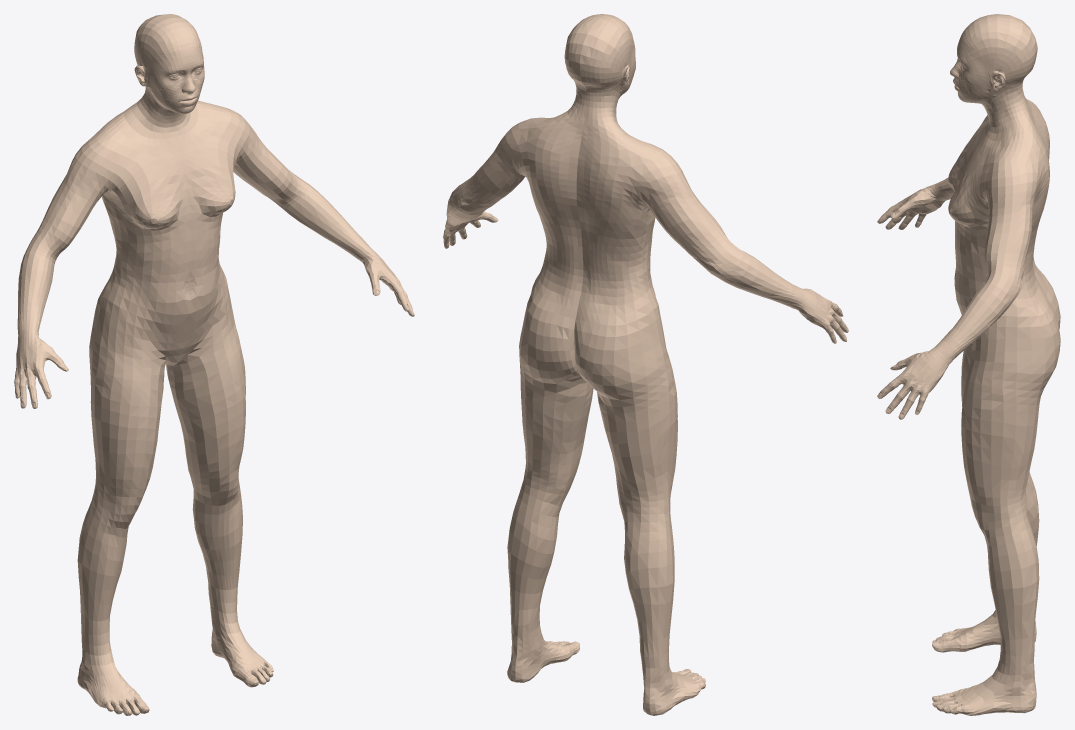
The model's file is female-adult-heavy-strong.glb.
3 renders of one model, left to right at view 1: azimuth 30°, elevation 25°; view 2: azimuth 150°, elevation 25°; view 3: azimuth 270°, elevation 25°, orthographic.
Visible parts, largest first — view 1: world; view 2: world; view 3: world.
Part boxes in pixels (x1,y1,x2,y2): world: (14,14,414,715); world: (443,14,848,715); world: (877,14,1060,715).
Bounding box in the file's own units: 1.13 × 1.82 × 0.4567.
